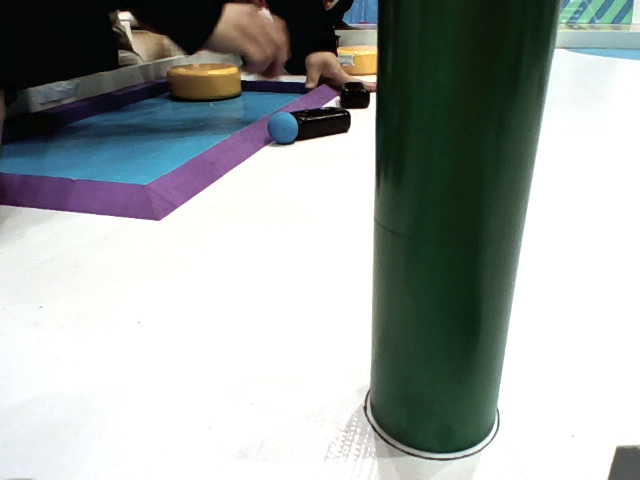black: (278, 103, 351, 137), (335, 75, 375, 114)
blue: (270, 113, 300, 149)
kuang: (1, 59, 350, 234)
yellow: (165, 62, 246, 99), (323, 43, 388, 76)
zhuzi: (367, 1, 567, 451)
